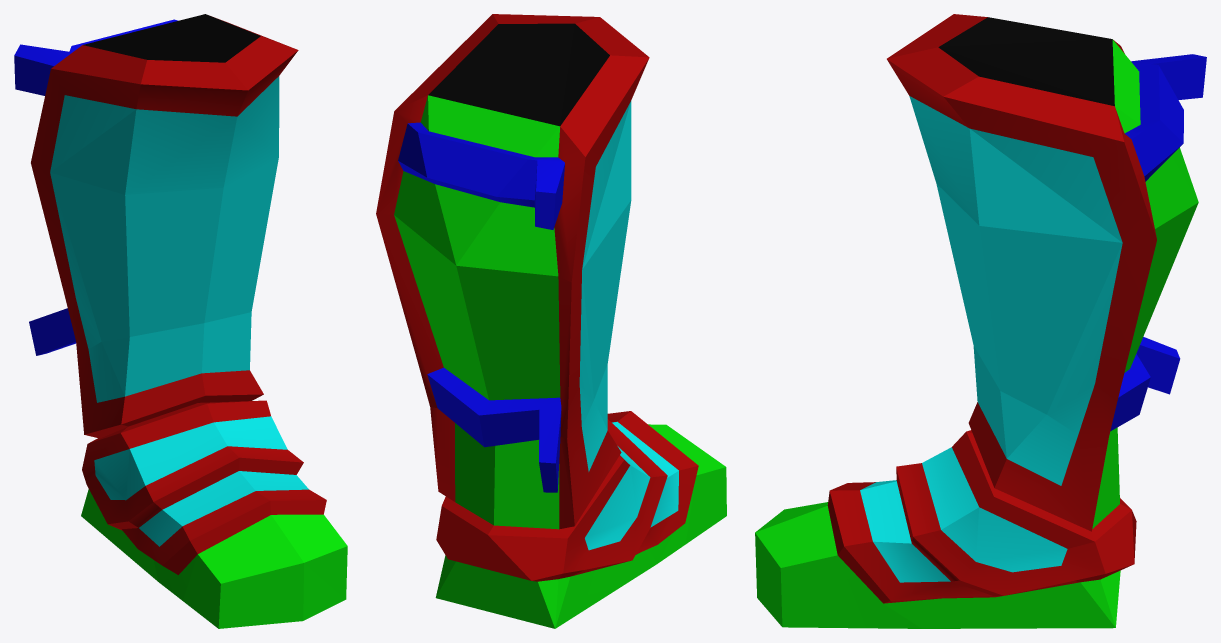
Rendered from Chr_LegLeft_Male_Static_16.fbx.
The picture shows the model from 3 angles, left to right: view 1: azimuth 30°, elevation 25°; view 2: azimuth 150°, elevation 25°; view 3: azimuth 270°, elevation 25°; orthographic projection. The views are drawn at different scales.
Parts seen in each view (by area): view 1: Chr_LegLeft_Male_16; view 2: Chr_LegLeft_Male_16; view 3: Chr_LegLeft_Male_16.
Boxes of the visible parts, x1,y1,x2,y2 form: Chr_LegLeft_Male_16: (14, 14, 347, 628); Chr_LegLeft_Male_16: (376, 14, 726, 628); Chr_LegLeft_Male_16: (755, 14, 1206, 628).
Bounding box in the file's own units: 15.82 × 40.4 × 29.94.
